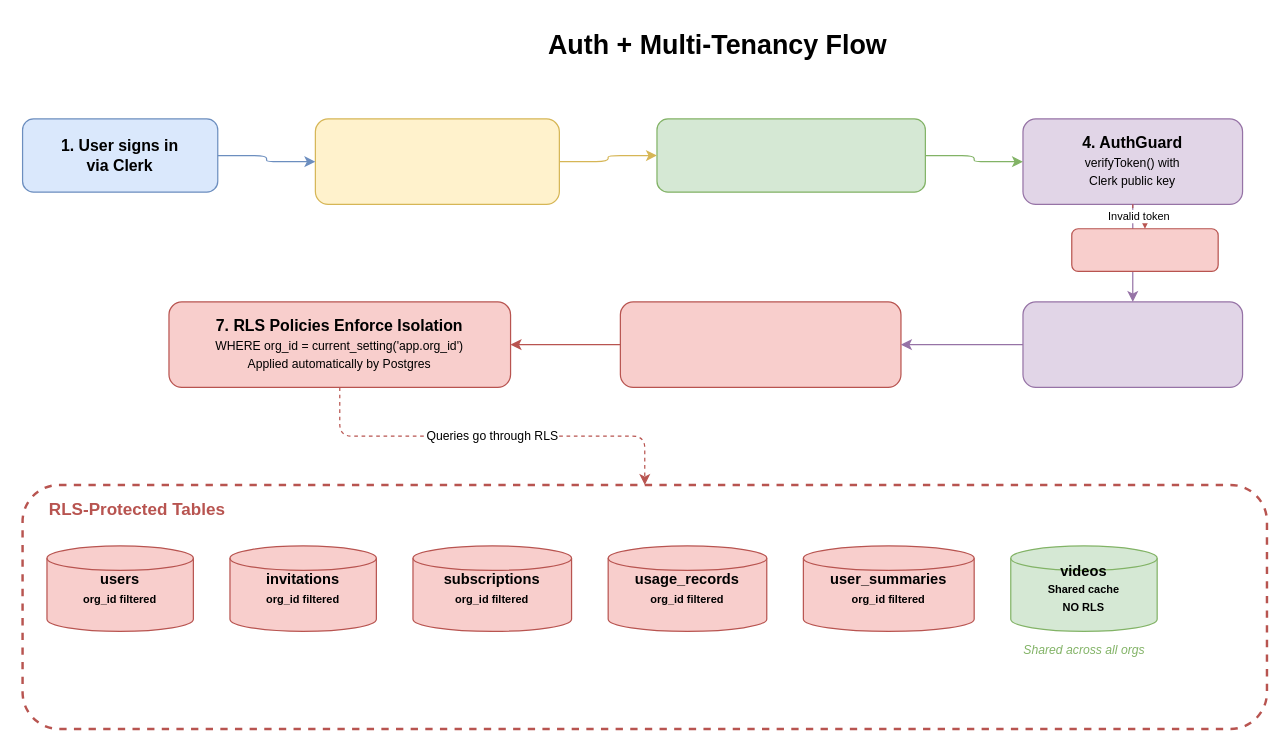
This 1288x750 diagram has some shape labels left out. The box of each missing label's shape, as (x1, y1, x2, y2) in pixels:
2. Clerk issues JWT Contains: sub (user_id), org_id, org_role: (314, 118, 559, 204)
3. Frontend sends Authorization: Bearer <JWT>: (656, 118, 925, 192)
401 Unauthorized: (1071, 228, 1218, 271)
5. TenantInterceptor Extracts org_id from JWT payload: (1022, 301, 1243, 387)
6. SET LOCAL app.org_id Runs on every DB connection before any query executes: (619, 301, 901, 387)
